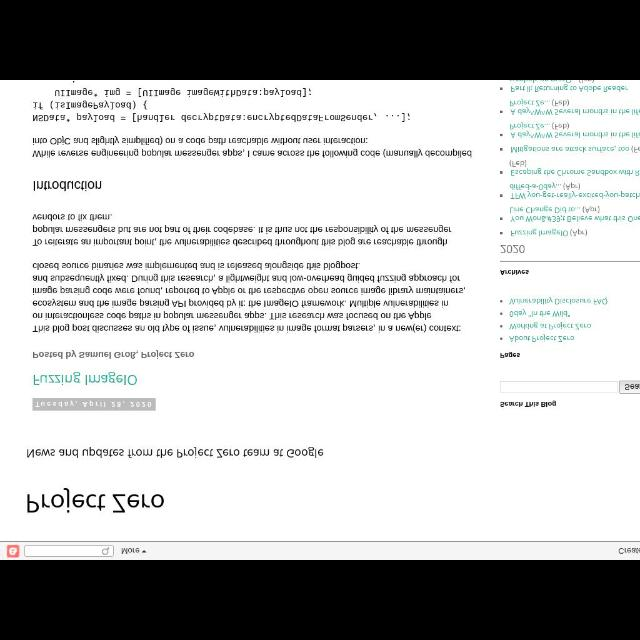icon: (103, 548, 109, 554), (498, 108, 504, 114), (142, 548, 146, 554), (498, 336, 504, 340), (499, 216, 503, 222), (500, 312, 504, 316), (500, 298, 504, 302), (499, 194, 503, 198), (499, 170, 503, 174), (501, 232, 504, 236), (500, 86, 502, 92), (501, 325, 503, 329), (500, 148, 502, 152), (500, 133, 502, 137)
image: (8, 546, 20, 556)
input: (500, 380, 618, 394), (26, 546, 112, 556)
spinner: (122, 546, 148, 556)
text: (33, 262, 467, 332), (34, 215, 452, 248), (32, 88, 412, 124), (32, 140, 474, 158), (25, 445, 325, 459), (28, 488, 164, 514), (510, 182, 640, 200), (509, 159, 639, 177), (509, 205, 639, 222), (509, 98, 639, 115), (509, 123, 639, 139), (509, 81, 627, 95), (32, 372, 138, 386), (33, 351, 195, 359), (35, 399, 152, 408), (509, 144, 639, 152), (509, 295, 611, 305), (32, 180, 102, 193), (508, 319, 594, 329), (510, 227, 590, 237), (499, 399, 558, 409), (510, 336, 576, 342), (510, 311, 572, 317), (500, 242, 526, 254), (498, 350, 522, 360), (500, 268, 530, 276), (617, 547, 639, 555), (121, 548, 139, 554), (625, 385, 639, 391)
textbutton: (621, 382, 639, 393)
